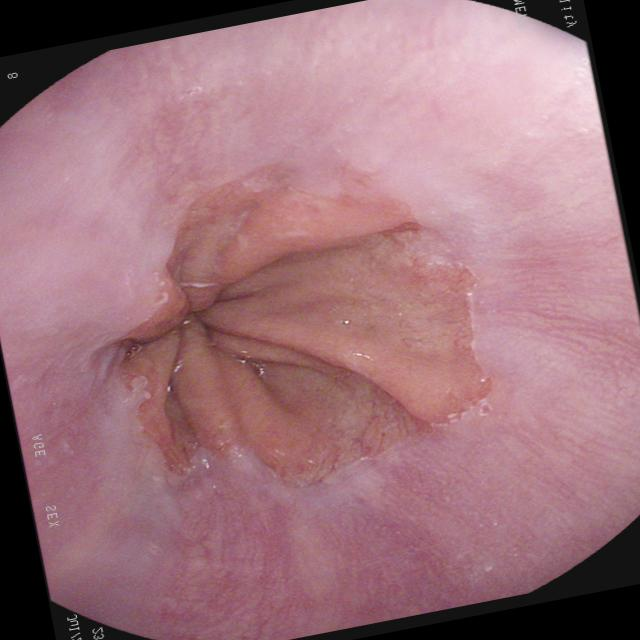Normal-Z-Line: (104, 146, 496, 479)
